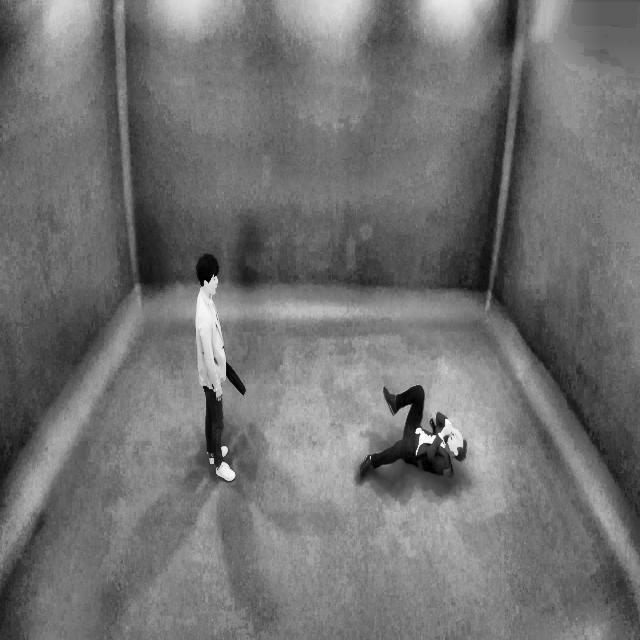assult: (185, 237, 474, 504), (353, 371, 470, 486)
